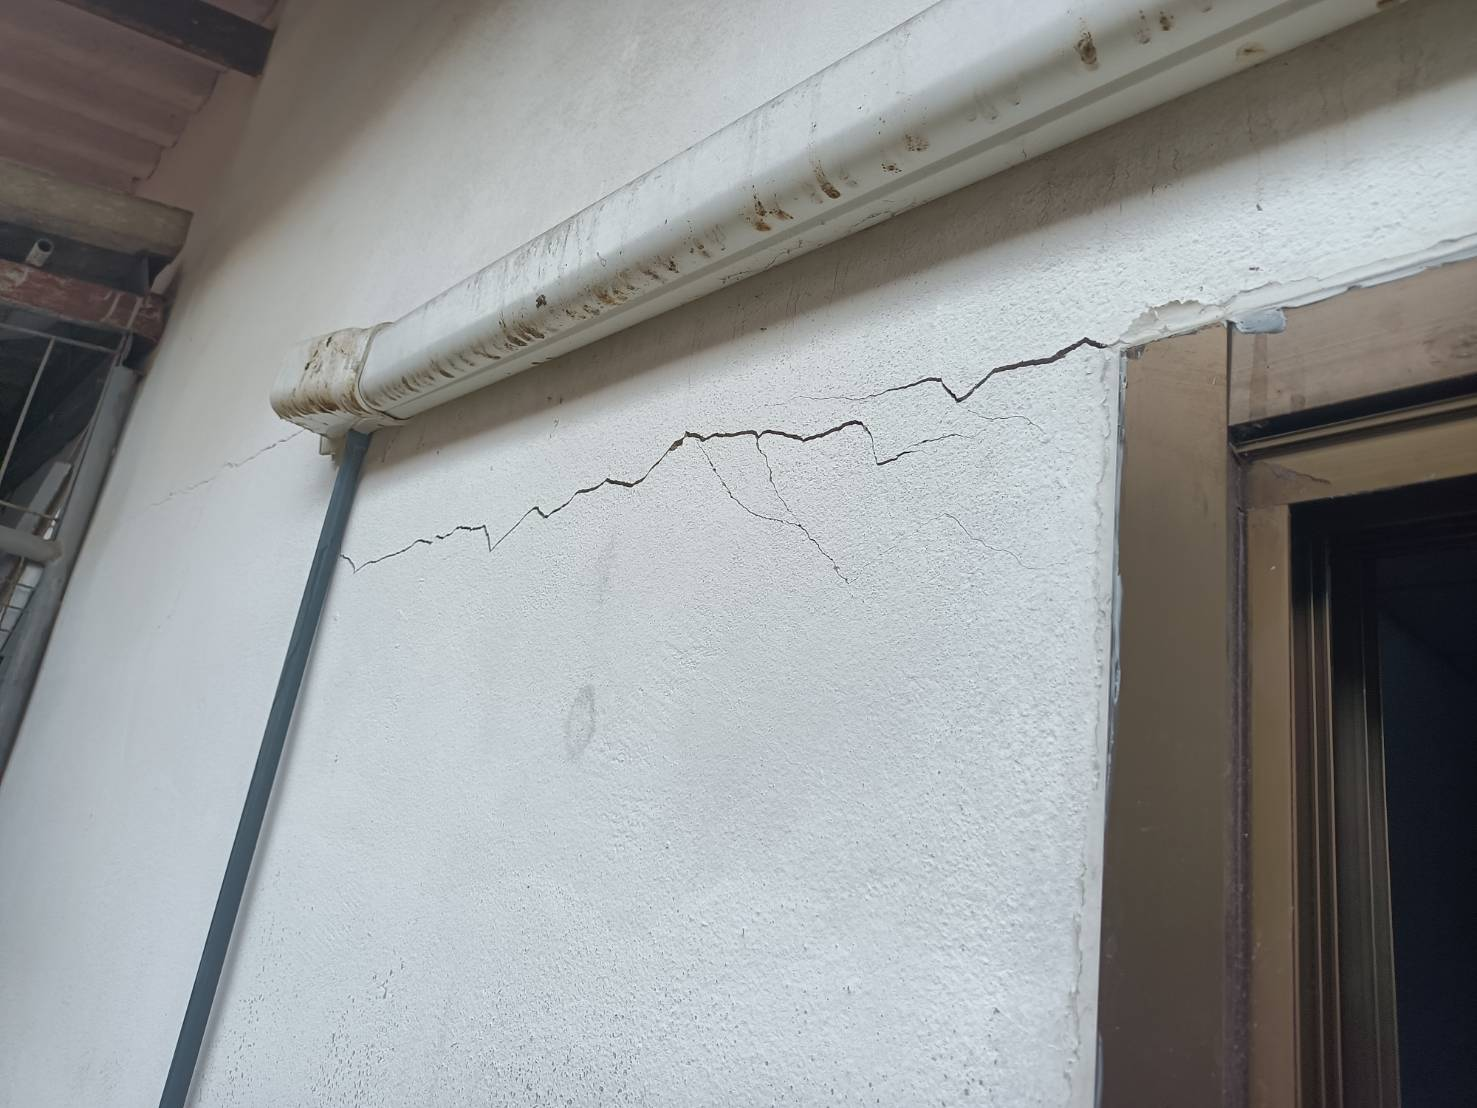Low: (318, 308, 1115, 633)
